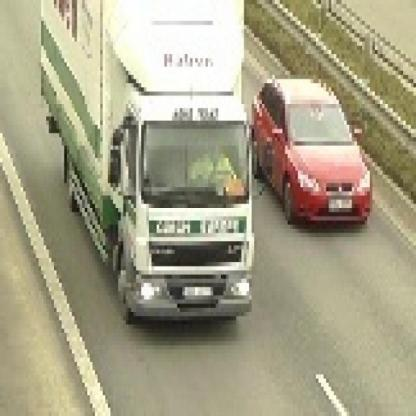truck: (45, 1, 258, 317)
